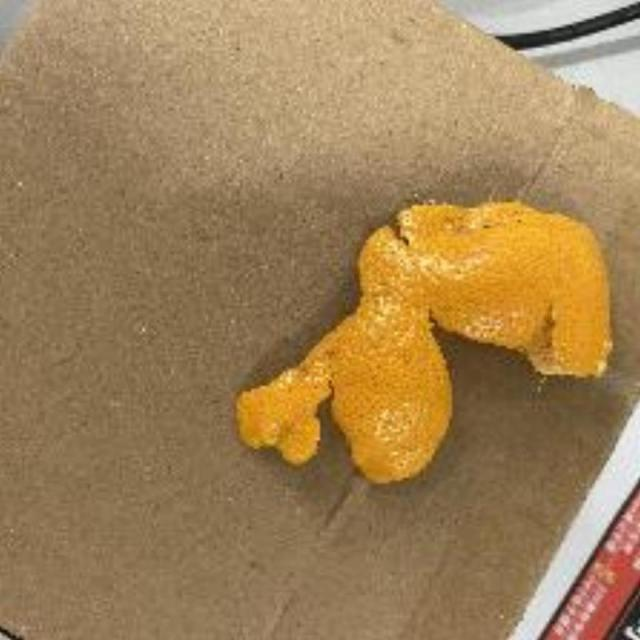orange-peel: (232, 196, 614, 486)
